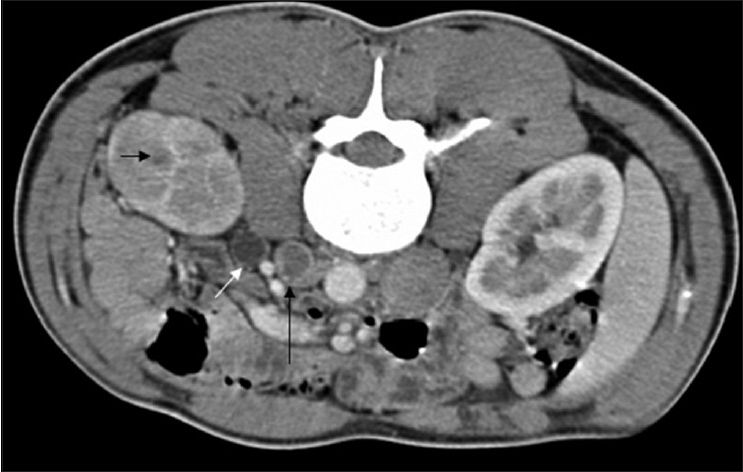anomaly: (276, 240, 316, 282)
